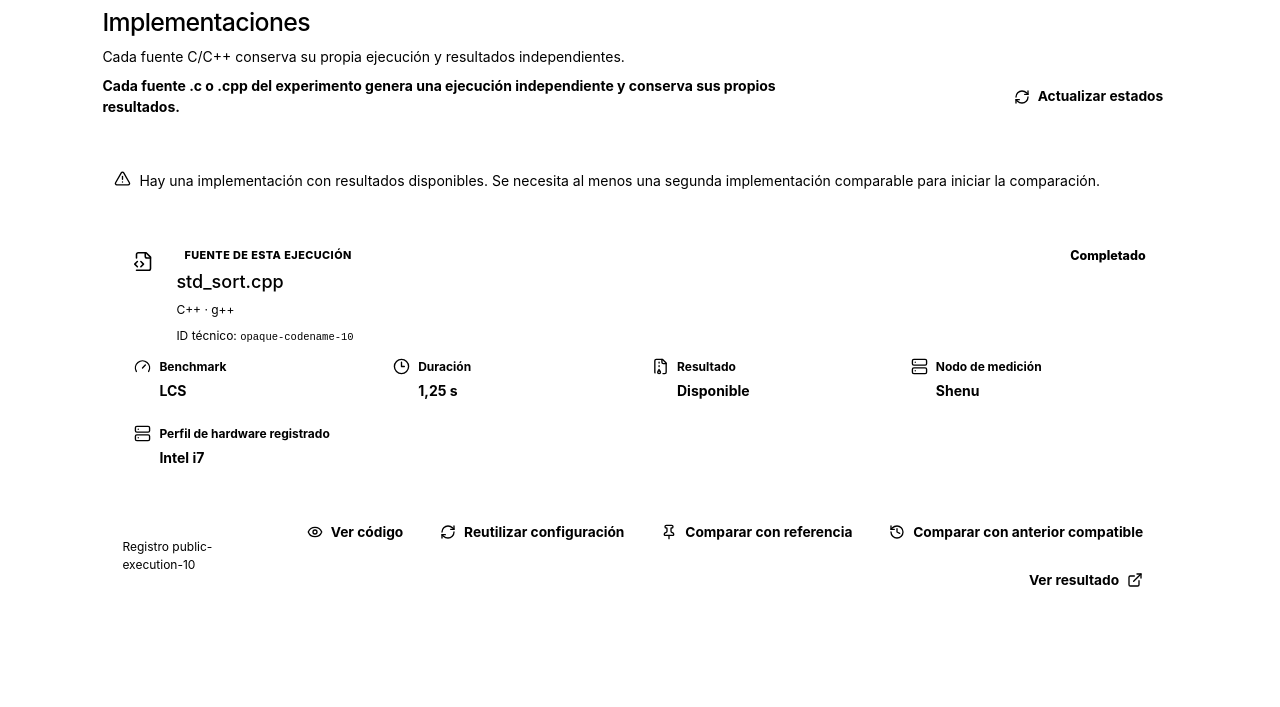
it: SubmissionOverviewPage › source request error remains contextual and never tears down Submission
(page scrolled)
Click the button "Ver código". click: click(355, 532)
box: [292,512,418,552]
(page scrolled)
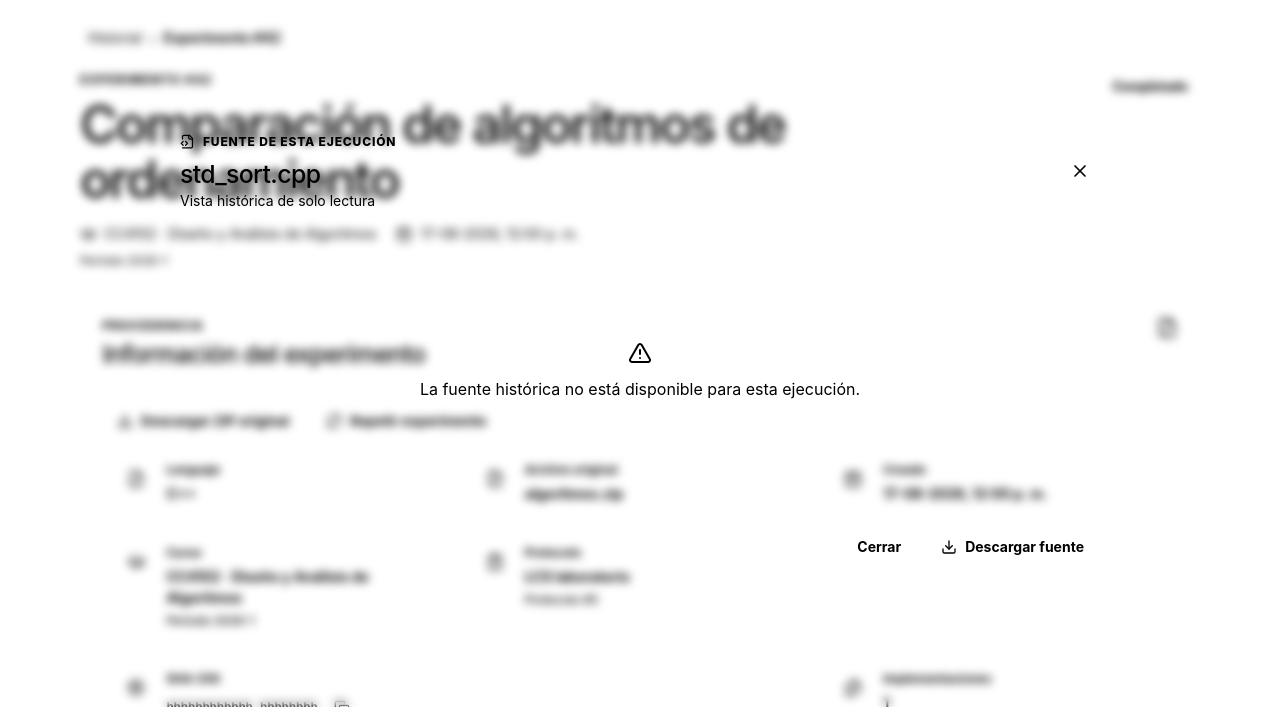
Expected: the heading "Comparación de algoritmos de ordenamiento" is shown, [80,97,900,207]
Expected: the text "La fuente histórica no está disponible para esta ejecución." is shown, [420,377,860,401]
